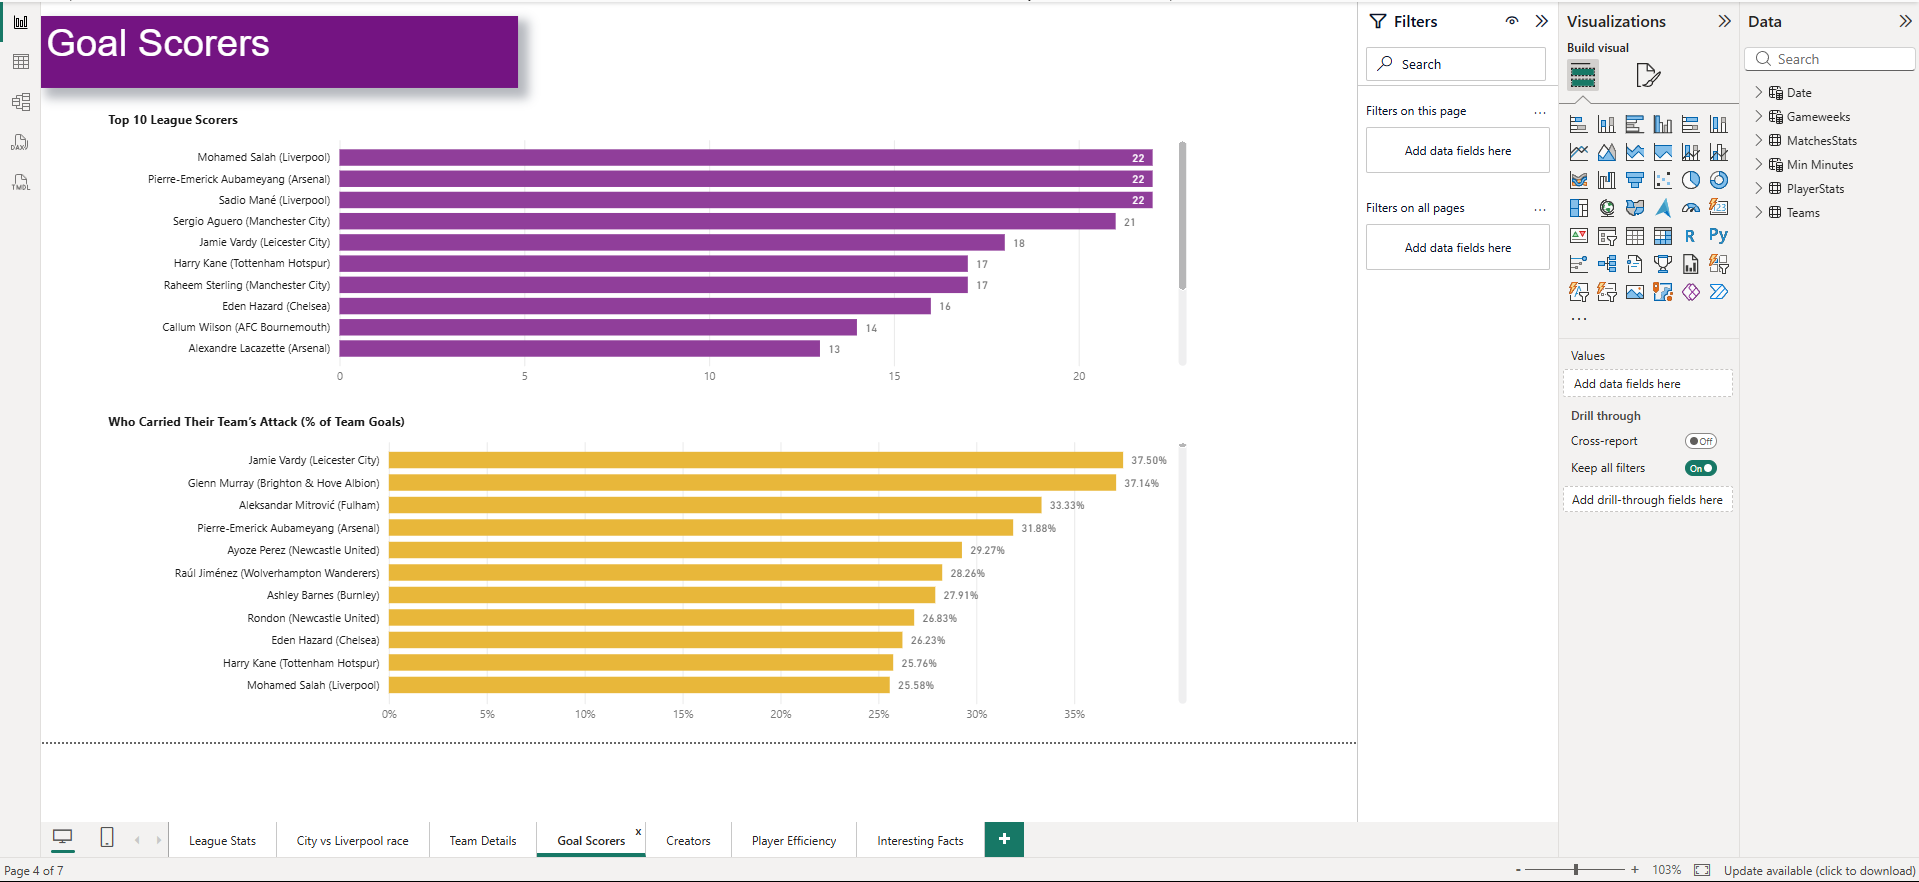

This screenshot's page, from the dashboard's own definition file:
{"tool":"powerbi","page":{"name":"Goal Scorers","canvas":[1280,720],"ordinal":3},"visuals":[{"type":"barChart","title":"Top 10 League Scorers","fields":{"Y":["PlayerStats.Player Goals"],"Category":["PlayerStats.Player With Club"]},"box":[60,105.9,1059.2,275.8],"z":1000},{"type":"barChart","title":"Who Carried Their Team’s Attack (% of Team Goals)","fields":{"Y":["PlayerStats.% of Team Goals"],"Category":["PlayerStats.Player With Club"]},"box":[60,399.7,1059.2,310.8],"z":2000},{"type":"textbox","box":[0,14,463.9,69.8],"z":3000}]}

Visuals, with their boxes on the page's 1280x720 design canvas (x1, y1, x2, y2). These are canvas units, not pixel positions in the 1919x882 screenshot, which may show the page scaled, cropped or inside an application window:
"Top 10 League Scorers" barChart: detection(60, 106, 1119, 382)
"Who Carried Their Team’s Attack (% of Team Goals)" barChart: detection(60, 400, 1119, 710)
textbox: detection(0, 14, 464, 84)
